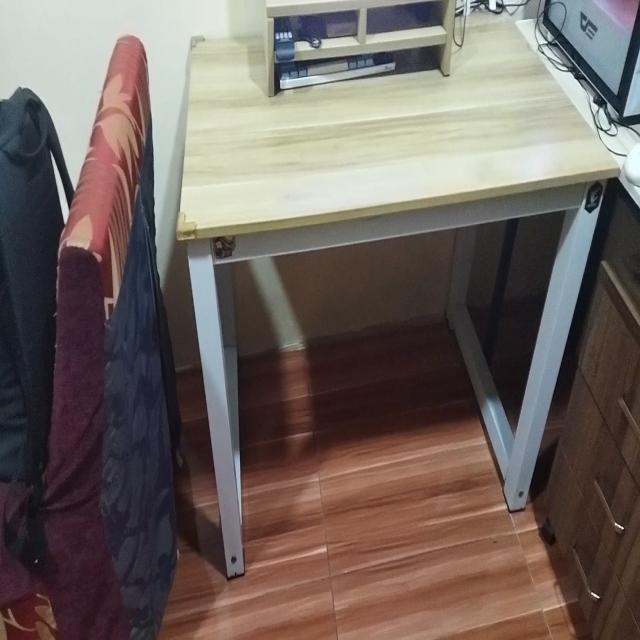table: (172, 15, 619, 576)
